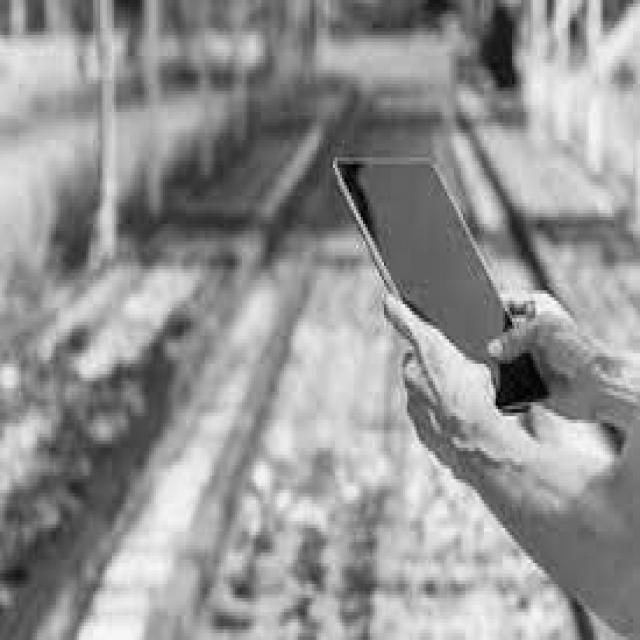No gun_phone: (333, 154, 551, 416)
